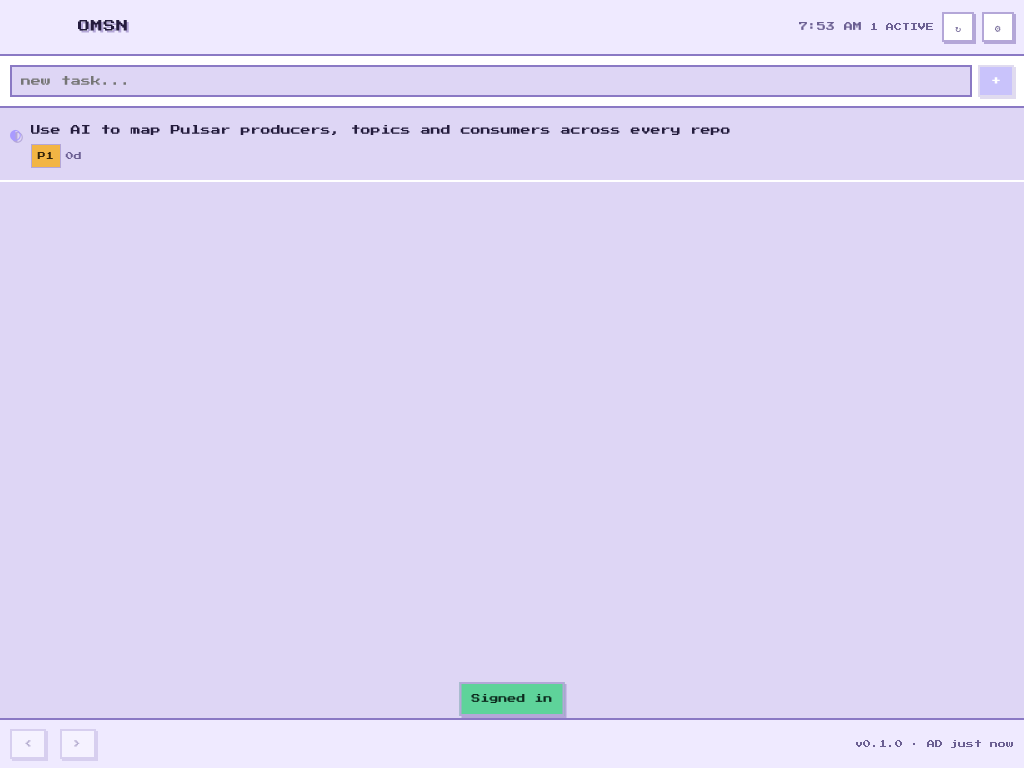
Scenario: clicking a row to read a long title (R3) › stays expanded when a poll replaces the snapshot
Expected: the text "Use AI to map Pulsar producers, topics and consumers across every repo" is shown, [31,125,731,135]
Click the button "Use AI to map Pulsar producers, topics and consumers across every repo": (381, 130) [31,125,731,168]
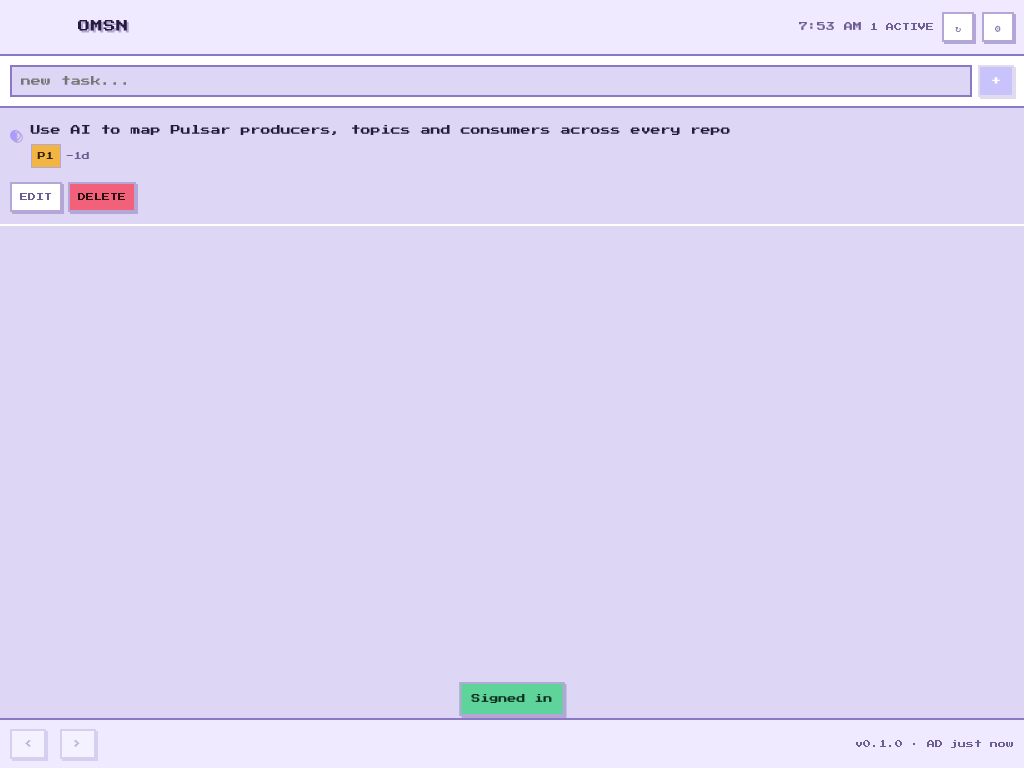
Expected: the button "Use AI to map Pulsar producers, topics and consumers across every repo" is expanded, [31,125,731,168]
